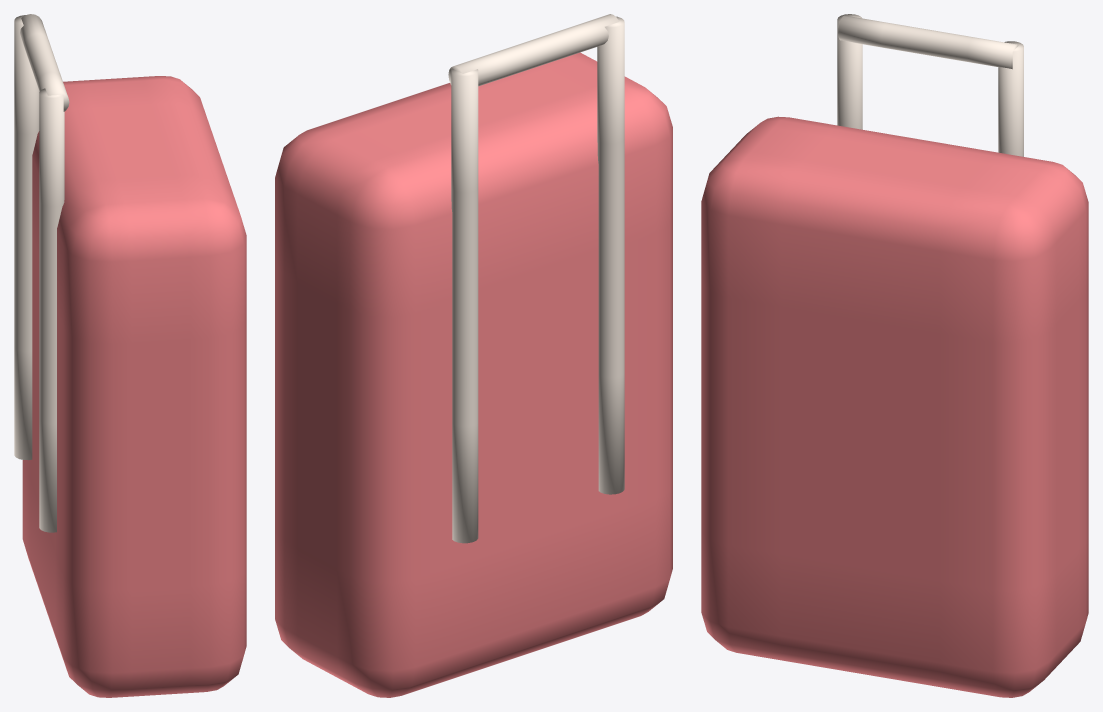
Rendered from suitcase.gltf.
3 views of the same model, side by side, from view 1: azimuth 30°, elevation 25°; view 2: azimuth 150°, elevation 25°; view 3: azimuth 270°, elevation 25° (orthographic). The views are drawn at different scales.
Visible parts, largest first — view 1: Cube, Handle; view 2: Cube, Handle; view 3: Cube, Handle.
Boxes of the visible parts, x1,y1,x2,y2 form: Cube: (22, 76, 246, 697); Handle: (14, 14, 69, 532); Cube: (275, 52, 672, 697); Handle: (448, 14, 624, 543); Cube: (701, 116, 1088, 697); Handle: (837, 14, 1023, 156).
Bounding box in the file's own units: 0.4901 × 1.12 × 0.6702.
